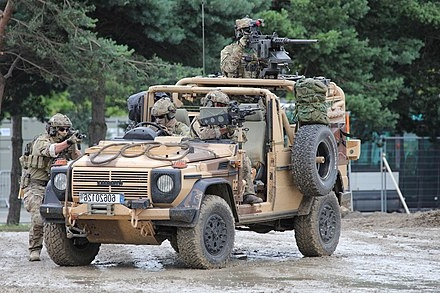license_plate: (81, 190, 127, 205)
